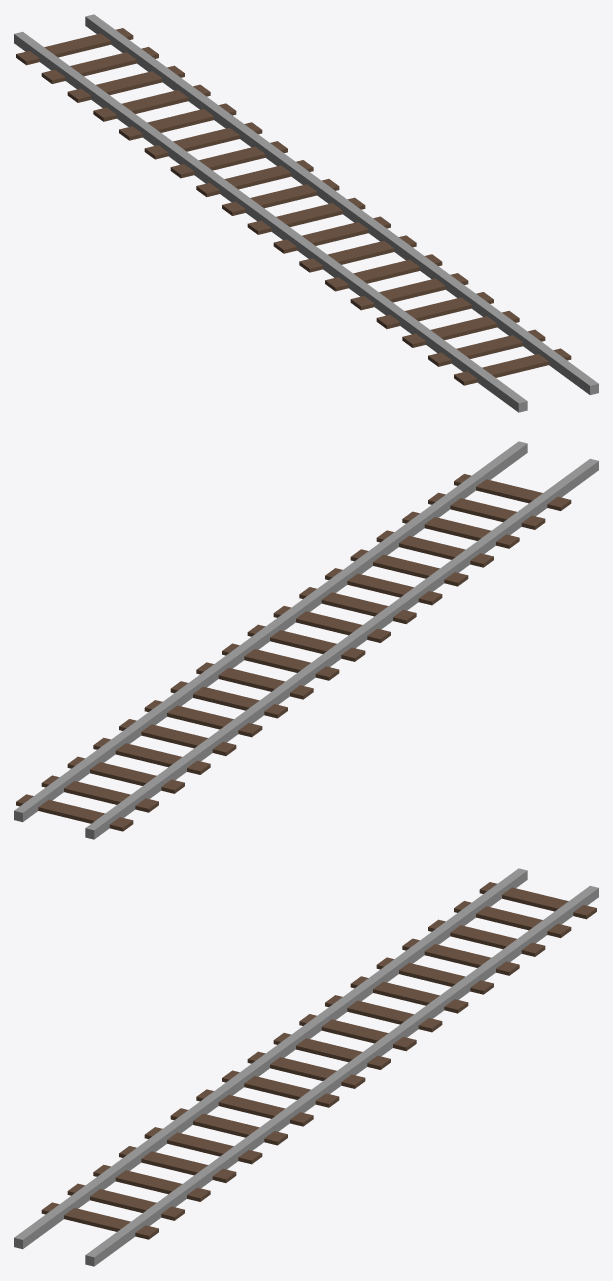
File: rails.gltf
3 renders of one model, top to bottom at view 1: azimuth 30°, elevation 25°; view 2: azimuth 150°, elevation 25°; view 3: azimuth 330°, elevation 25°, orthographic.
Visible parts, largest first — view 1: cuboid (×20); view 2: cuboid (×20); view 3: cuboid (×20).
Part boxes in pixels (x1,y1,x2,y2): cuboid (×20): [14, 14, 598, 412]; cuboid (×20): [14, 441, 598, 839]; cuboid (×20): [14, 868, 598, 1266].
Bounding box in the file's own units: 0.75 × 0.0625 × 6.12.
1 material, 1 textured.
